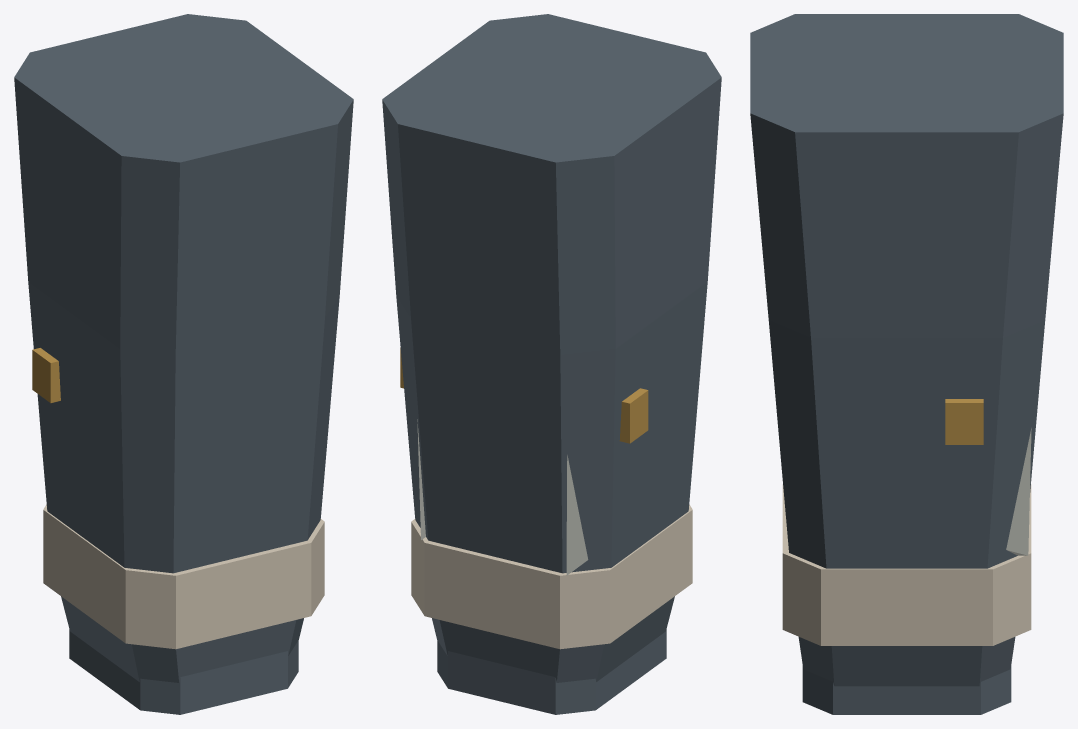
The picture shows the model from 3 angles, left to right: view 1: azimuth 30°, elevation 25°; view 2: azimuth 150°, elevation 25°; view 3: azimuth 270°, elevation 25°; orthographic projection. The views are drawn at different scales.
Visible parts, largest first — view 1: 现有程序大腿; view 2: 现有程序大腿; view 3: 现有程序大腿.
Boxes of the visible parts, x1,y1,x2,y2 form: 现有程序大腿: [14, 14, 353, 714]; 现有程序大腿: [382, 14, 721, 714]; 现有程序大腿: [750, 14, 1063, 714].
Bounding box in the file's own units: 0.182 × 0.432 × 0.204.
Materials: 4 (4 with a texture image).
